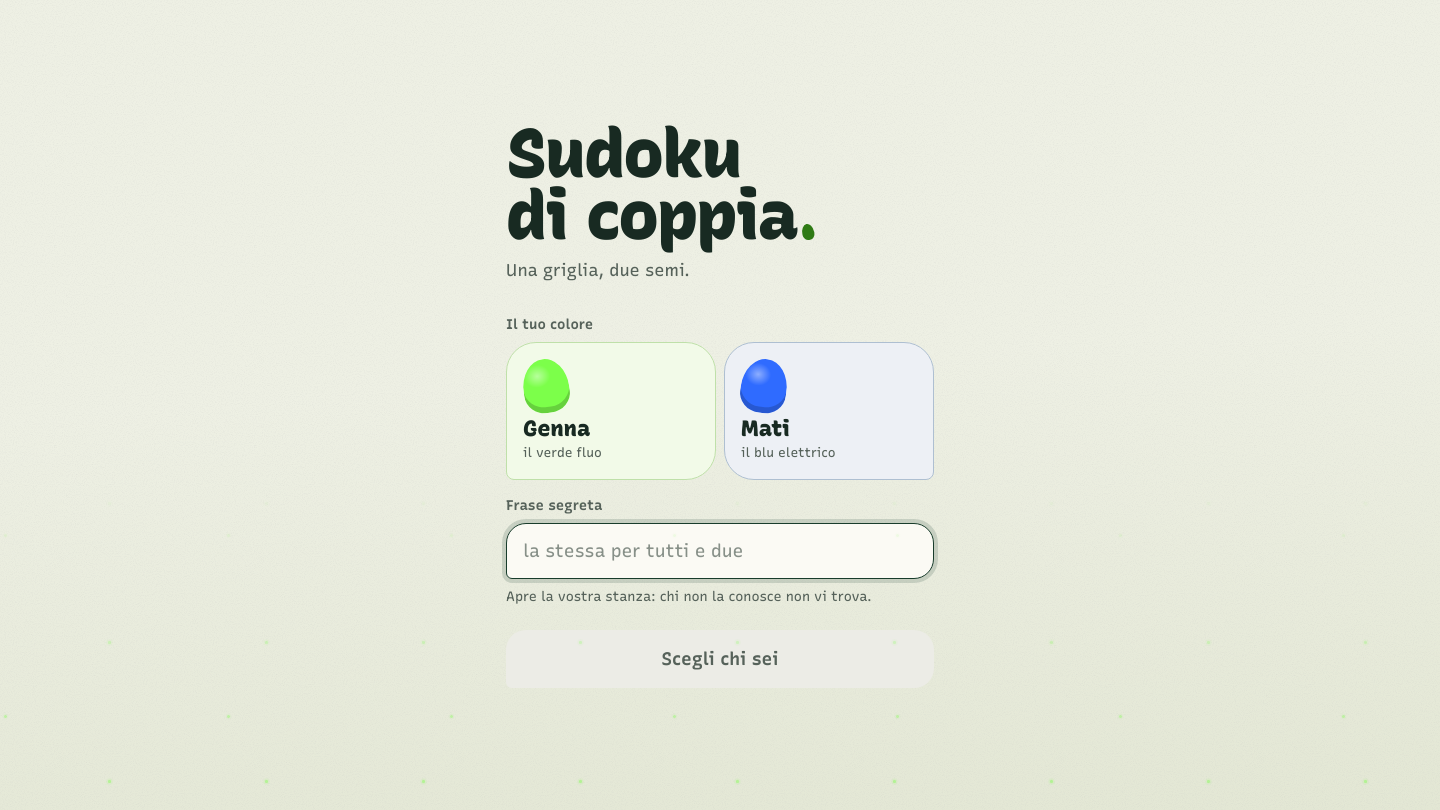
Scenario: H11: Ingresso, Invio senza colore › lo dice sotto le card e porta il focus alla prima; scegliendo il colore il messaggio sparisce
The width and height of the screenshot is (1440, 810).
Press Enter in the field with test id "frase", box [506, 523, 934, 579]
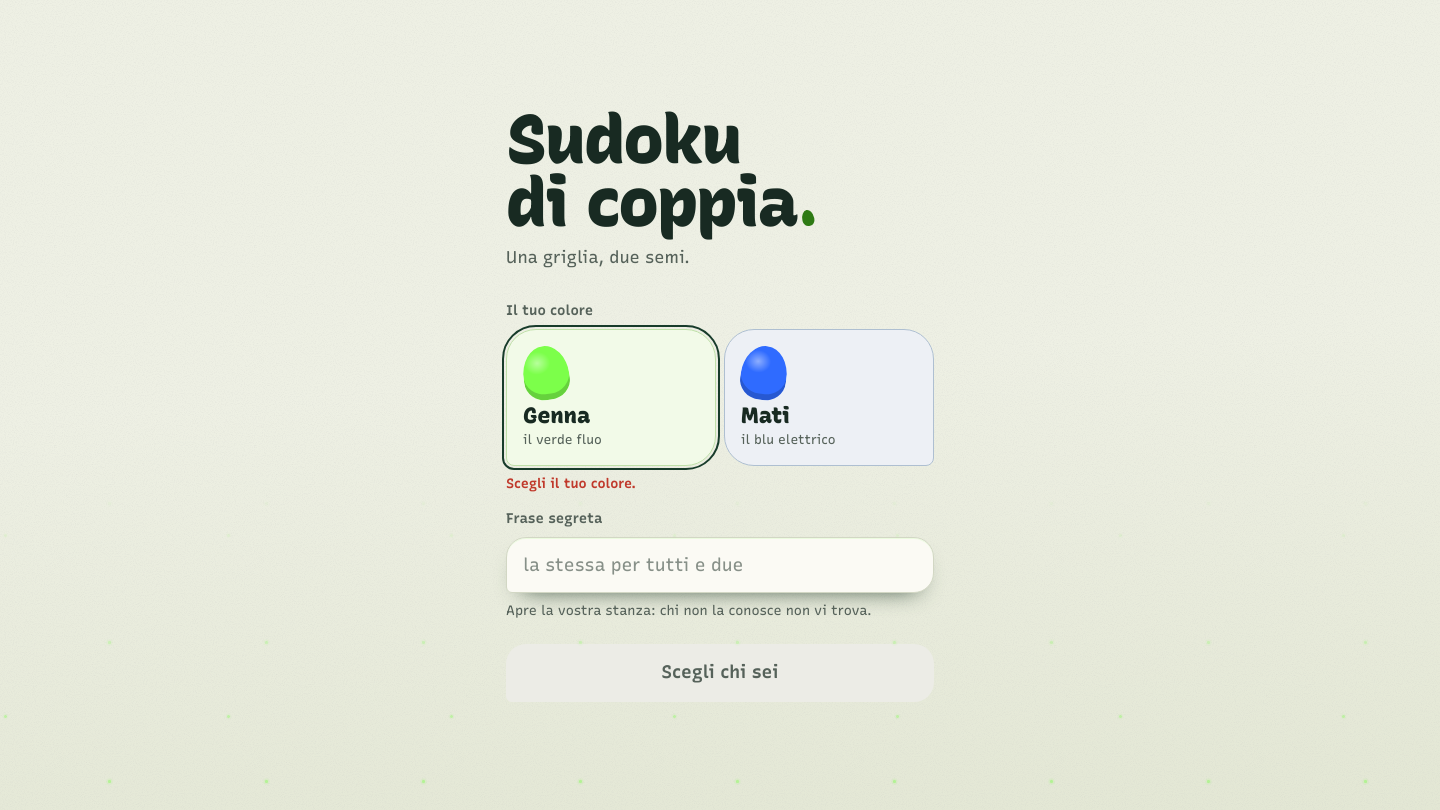
expect the message with test id "manca-colore" reads "Scegli il tuo colore.": met, box [506, 475, 636, 491]
Click the button with test id "scegli-semina" at (829, 398), box [724, 329, 934, 466]
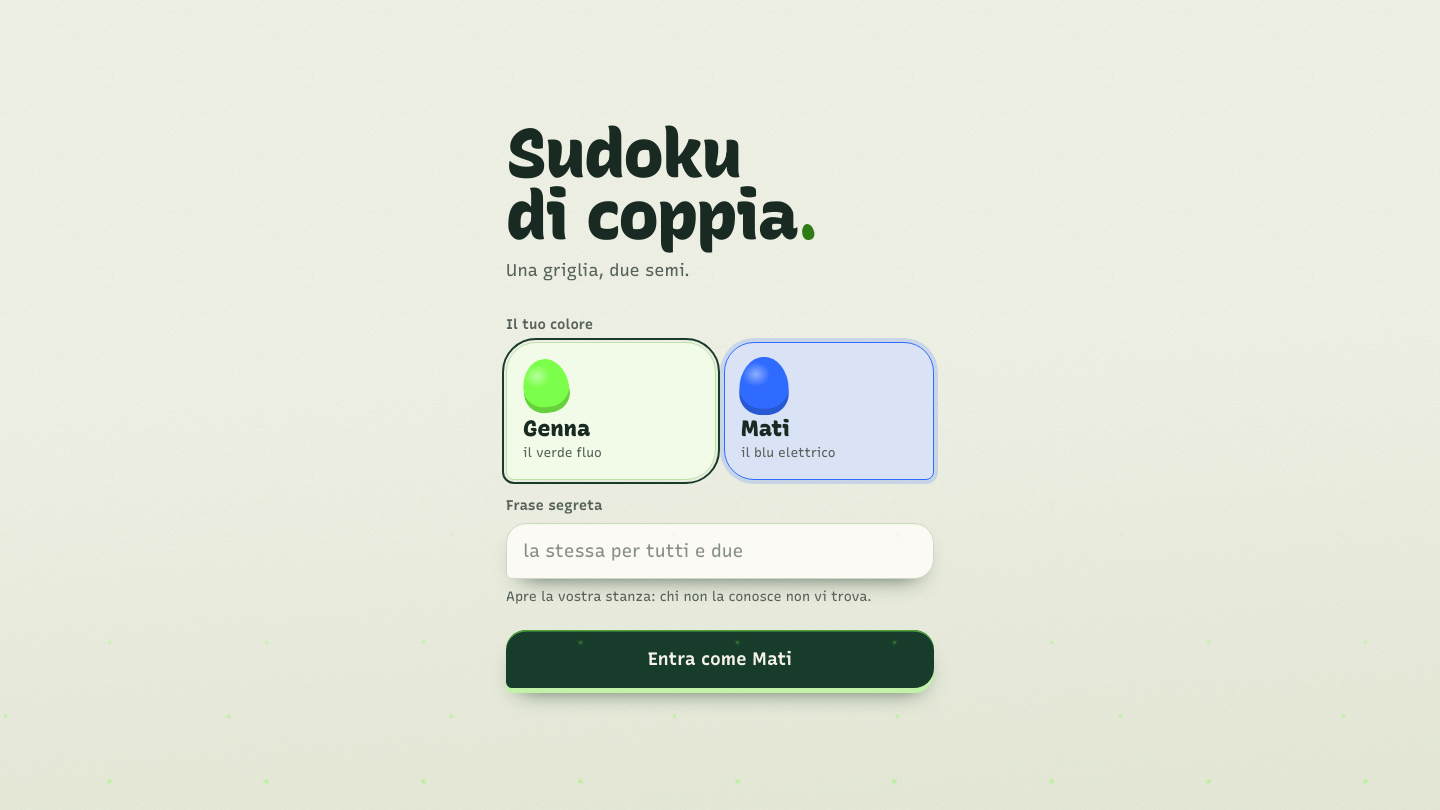
expect the message with test id "manca-colore" is gone: met
